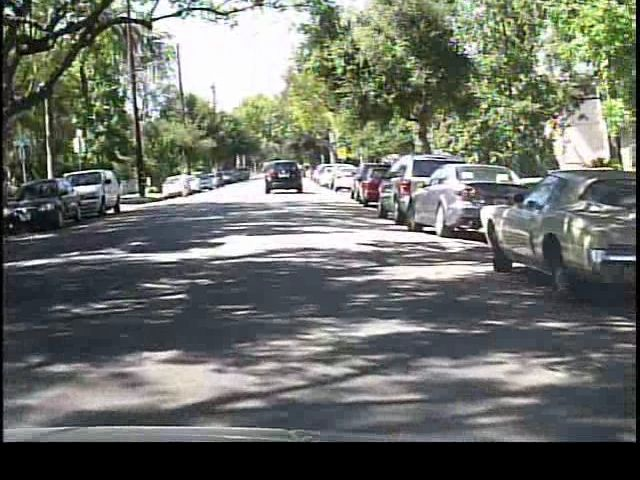person: (178, 166, 194, 201)
